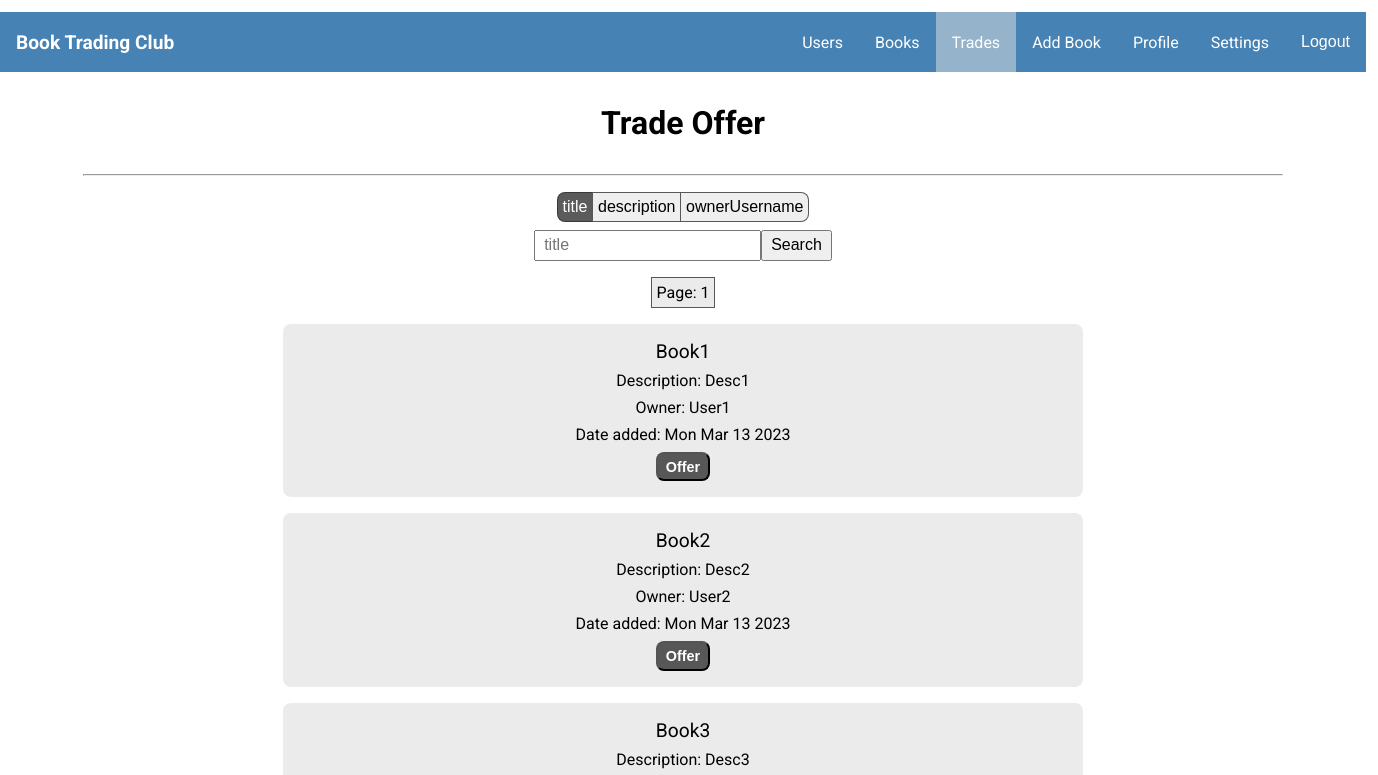
----- <Offer/> ----- › correctly removes an offered book
Click the button "Offer" below "Book1" at point(683, 467), box [656,452,710,481]
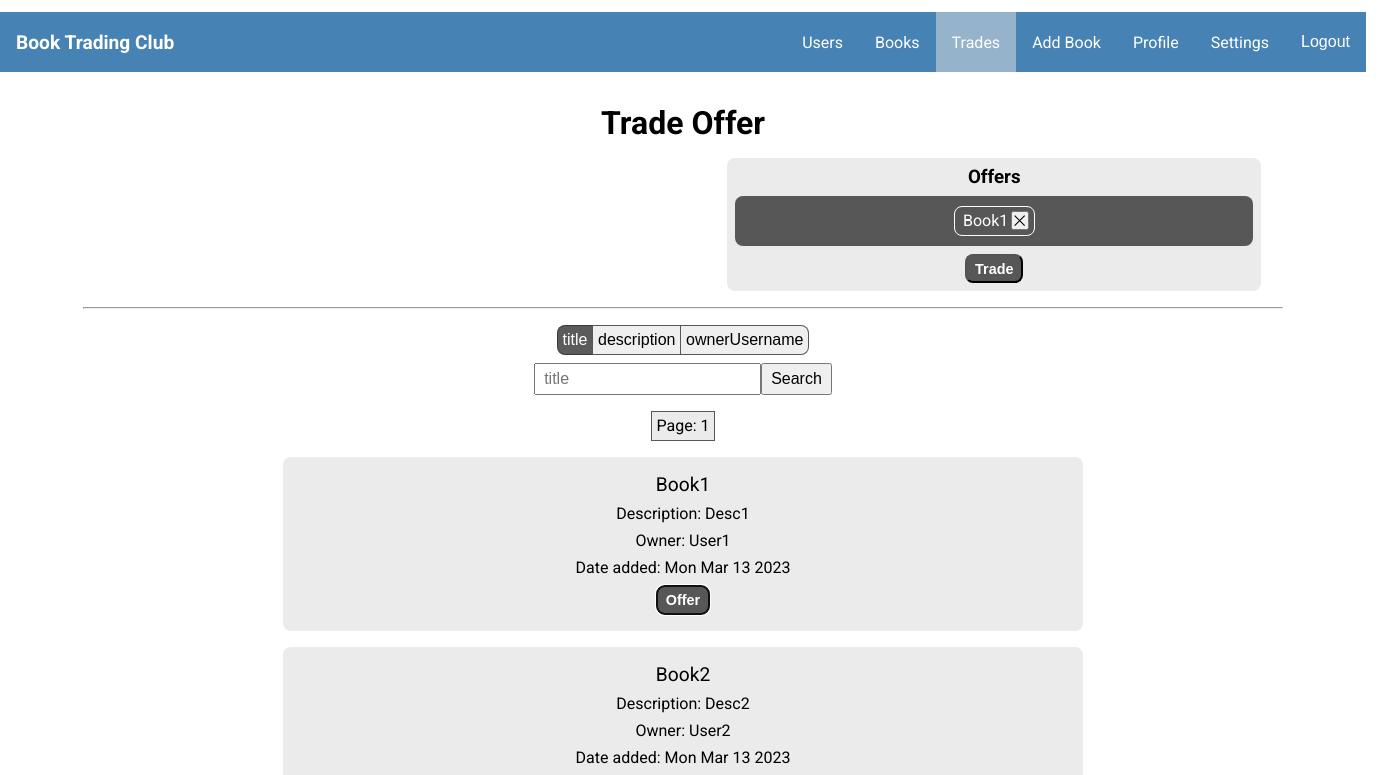
Expected: the number of list items with test id "pendingTradeDisplay-book" is 1, [954,206,1035,236]
Click the button with test id "pendingTradeDisplay-remove" at point(1020, 221), box [1011,211,1029,230]
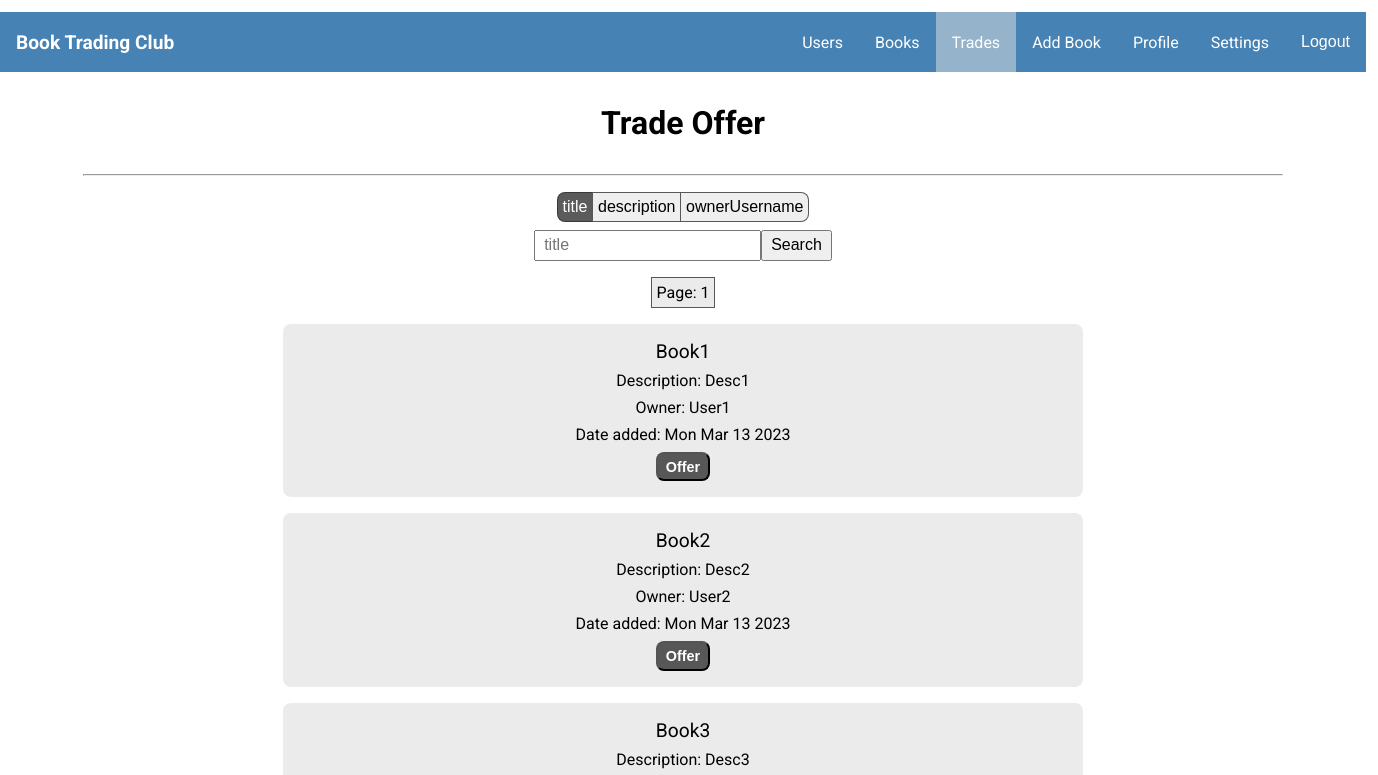
Expected: no list items with test id "pendingTradeDisplay-book" are shown
